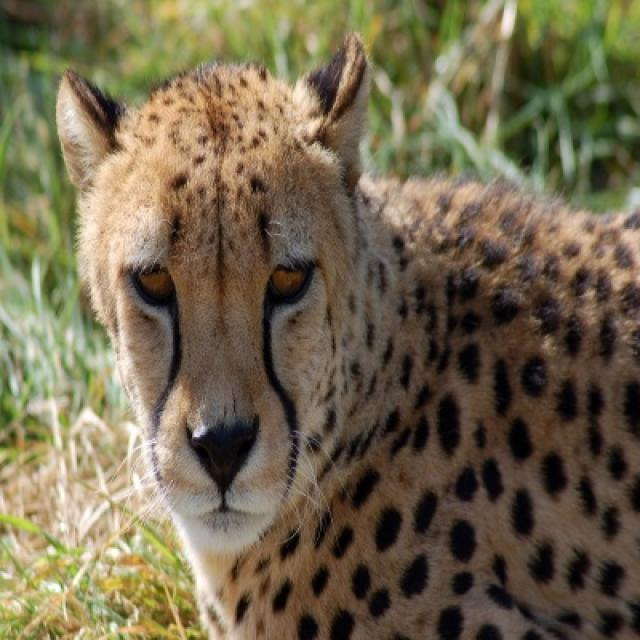Cheetah: (58, 35, 638, 638)
